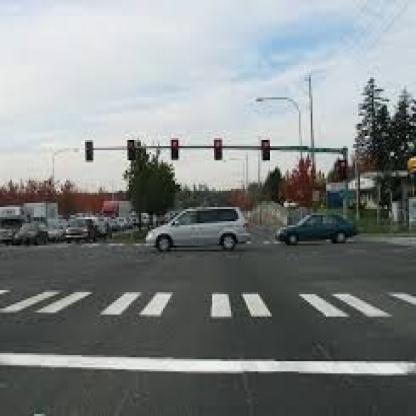Traffic Signal: (211, 137, 224, 160), (260, 138, 273, 160)
